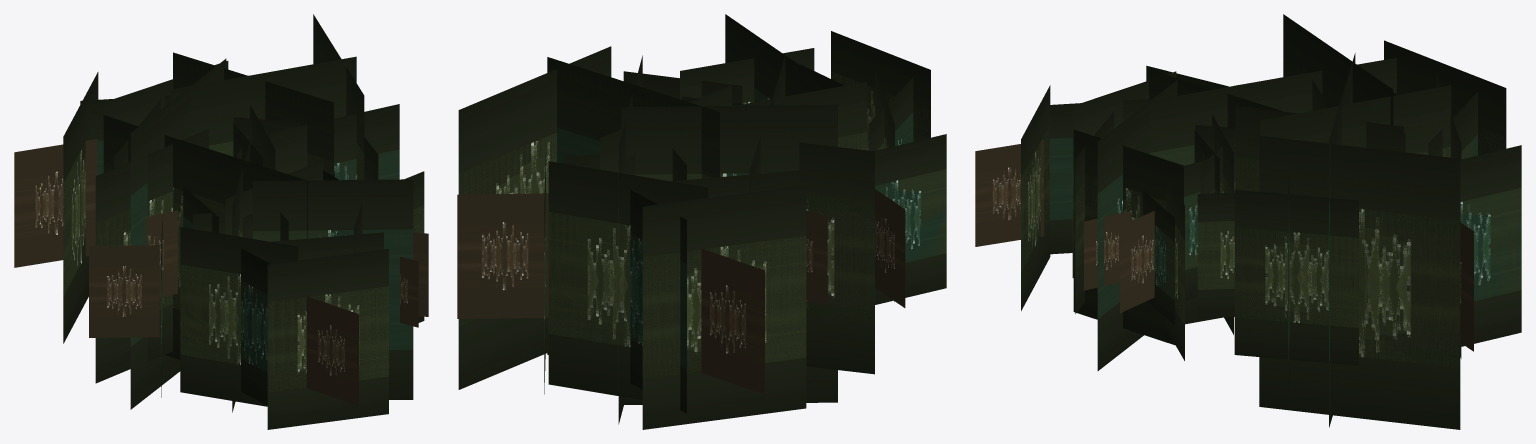
Rendered from SmallGrass01-transformed.glb.
The picture shows the model from 3 angles, left to right: view 1: azimuth 30°, elevation 25°; view 2: azimuth 150°, elevation 25°; view 3: azimuth 270°, elevation 25°; orthographic projection. The views are drawn at different scales.
Visible parts, largest first — view 1: SmallGrass01; view 2: SmallGrass01; view 3: SmallGrass01.
Boxes of the visible parts, x1,y1,x2,y2 form: SmallGrass01: [14, 14, 428, 429]; SmallGrass01: [457, 14, 946, 429]; SmallGrass01: [975, 14, 1521, 429].
Bounding box in the file's own units: 1.33 × 1.09 × 1.87.
1 material, 1 textured.
